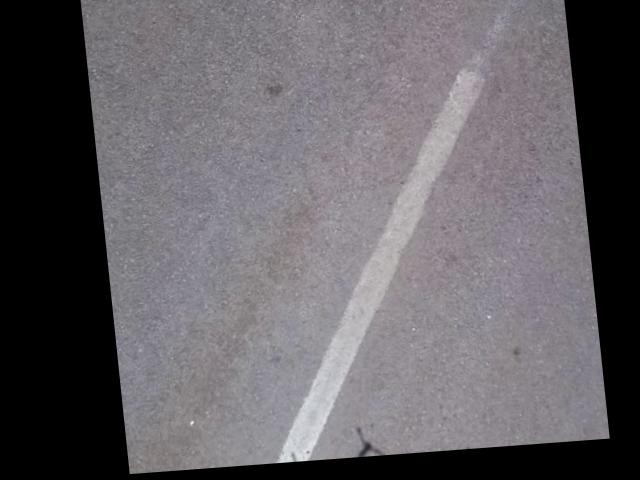fire-poster: (252, 0, 414, 8)
